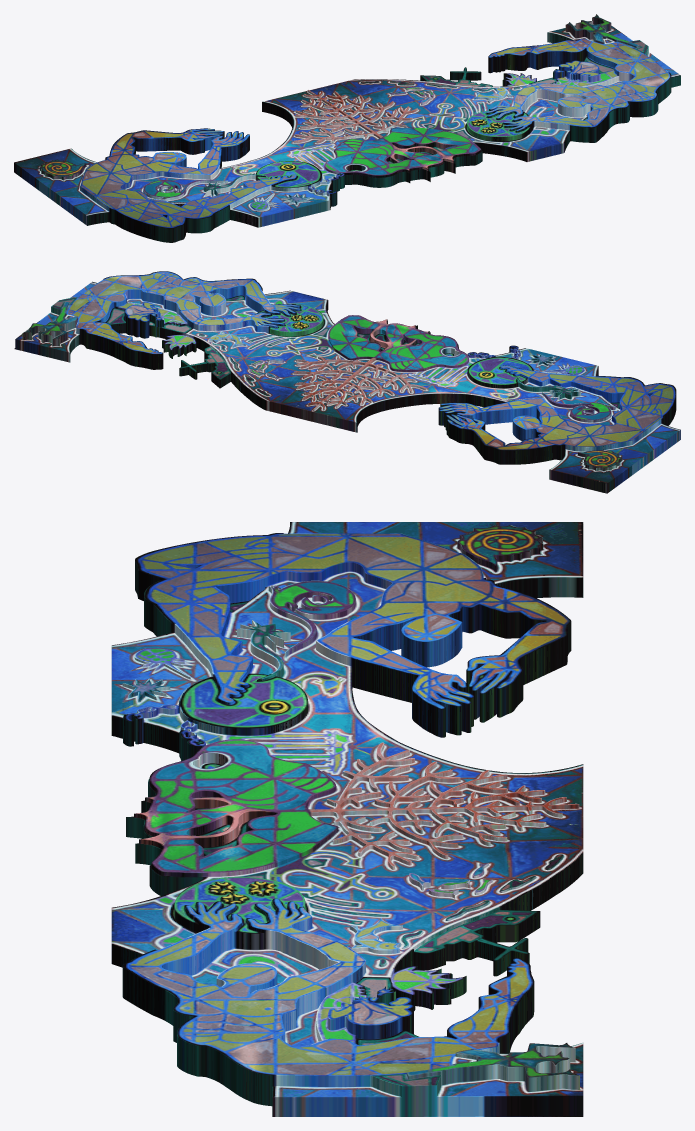
The model's file is muro del mar 1.dae.
3 views of the same model, one above another, from view 1: azimuth 30°, elevation 25°; view 2: azimuth 150°, elevation 25°; view 3: azimuth 270°, elevation 25° (orthographic). The views are drawn at different scales.
Parts seen in each view (by area): view 1: SketchUp (×4); view 2: SketchUp (×4); view 3: SketchUp (×6).
Boxes of the visible parts, left/top/right/bottom form: SketchUp (×4): left=14, top=14, right=680, bottom=242; SketchUp (×4): left=15, top=271, right=680, bottom=493; SketchUp (×6): left=111, top=522, right=583, bottom=1116.
Bounding box in the file's own units: 148 × 51.29 × 4.06.
